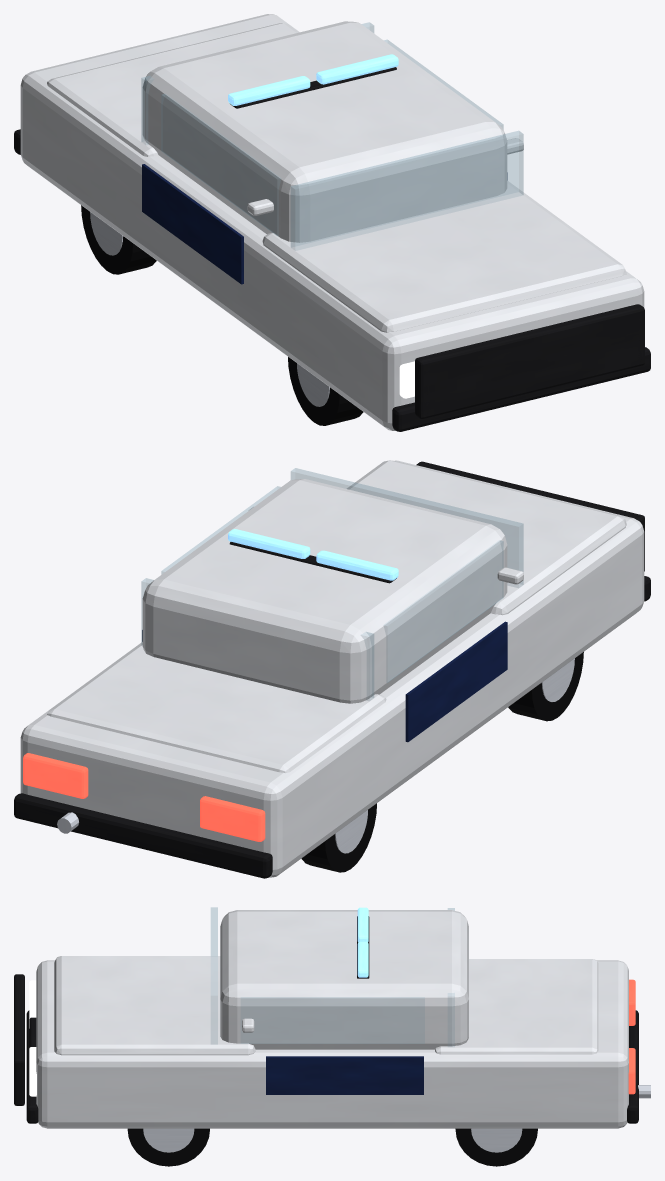
Rendered from car_police.glb.
3 renders of one model, top to bottom at view 1: azimuth 30°, elevation 25°; view 2: azimuth 150°, elevation 25°; view 3: azimuth 270°, elevation 25°, orthographic. The views are drawn at different scales.
Parts seen in each view (by area): view 1: car_police_cabin, car_police_body_lower, car_police_bonnet, car_police_glass_front, car_police_push_bar, car_police_boot, car_police_glass_side_l, car_police_decal_l, car_police_bumper_front, tyre_rl, tyre_fl, car_police_lightbar_lens1 (+4 smaller); view 2: car_police_cabin, car_police_body_lower, car_police_boot, car_police_bonnet, car_police_glass_side_l, car_police_bumper_rear, car_police_decal_l, car_police_glass_front, car_police_taillight_l, car_police_taillight_r, tyre_fl, tyre_rl (+7 smaller); view 3: car_police_body_lower, car_police_cabin, car_police_bonnet, car_police_boot, car_police_glass_side_r, car_police_decal_r, tyre_rr, tyre_fr, car_police_push_bar, hub_fr, hub_rr, car_police_glass_front (+6 smaller).
Boxes of the visible parts, x1=… form: car_police_cabin: x1=142, y1=21, x2=507, y2=242; car_police_body_lower: x1=20, y1=14, x2=644, y2=430; car_police_bonnet: x1=262, y1=181, x2=626, y2=332; car_police_glass_front: x1=291, y1=131, x2=523, y2=250; car_police_push_bar: x1=415, y1=304, x2=644, y2=418; car_police_boot: x1=47, y1=23, x2=299, y2=156; car_police_glass_side_l: x1=161, y1=94, x2=280, y2=235; car_police_decal_l: x1=142, y1=164, x2=243, y2=284; car_police_bumper_front: x1=392, y1=347, x2=650, y2=431; tyre_rl: x1=81, y1=205, x2=156, y2=274; tyre_fl: x1=288, y1=357, x2=363, y2=425; car_police_lightbar_lens1: x1=316, y1=54, x2=398, y2=84; car_police_cabin: x1=142, y1=479, x2=507, y2=703; car_police_body_lower: x1=20, y1=460, x2=644, y2=877; car_police_boot: x1=47, y1=642, x2=386, y2=772; car_police_bonnet: x1=347, y1=460, x2=626, y2=615; car_police_glass_side_l: x1=384, y1=540, x2=503, y2=682; car_police_bumper_rear: x1=14, y1=793, x2=272, y2=878; car_police_decal_l: x1=405, y1=621, x2=507, y2=742; car_police_glass_front: x1=291, y1=468, x2=523, y2=587; car_police_taillight_l: x1=200, y1=796, x2=265, y2=841; car_police_taillight_r: x1=23, y1=753, x2=88, y2=798; tyre_fl: x1=508, y1=652, x2=583, y2=721; tyre_rl: x1=301, y1=803, x2=376, y2=872; car_police_body_lower: x1=36, y1=960, x2=628, y2=1128; car_police_cabin: x1=220, y1=910, x2=468, y2=1049; car_police_bonnet: x1=54, y1=956, x2=255, y2=1055; car_police_boot: x1=435, y1=959, x2=598, y2=1054; car_police_glass_side_r: x1=241, y1=997, x2=424, y2=1043; car_police_decal_r: x1=266, y1=1056, x2=423, y2=1094; tyre_rr: x1=455, y1=1128, x2=537, y2=1166; tyre_fr: x1=127, y1=1128, x2=209, y2=1166; car_police_push_bar: x1=14, y1=974, x2=24, y2=1105; hub_fr: x1=143, y1=1128, x2=194, y2=1152; hub_rr: x1=471, y1=1128, x2=522, y2=1152; car_police_glass_front: x1=211, y1=907, x2=217, y2=1043.
Bounding box in the file's own units: 2.05 × 1.64 × 5.24.
42 materials, 42 textured.
